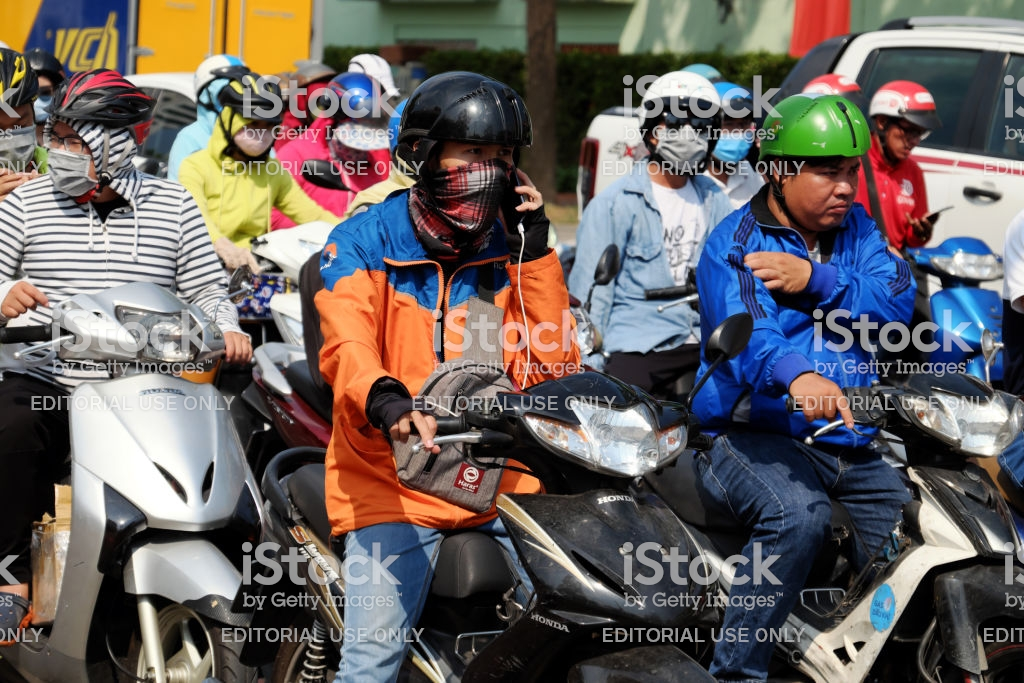helmet: (391, 64, 533, 162), (756, 97, 876, 163), (628, 59, 723, 127), (63, 72, 151, 143)
